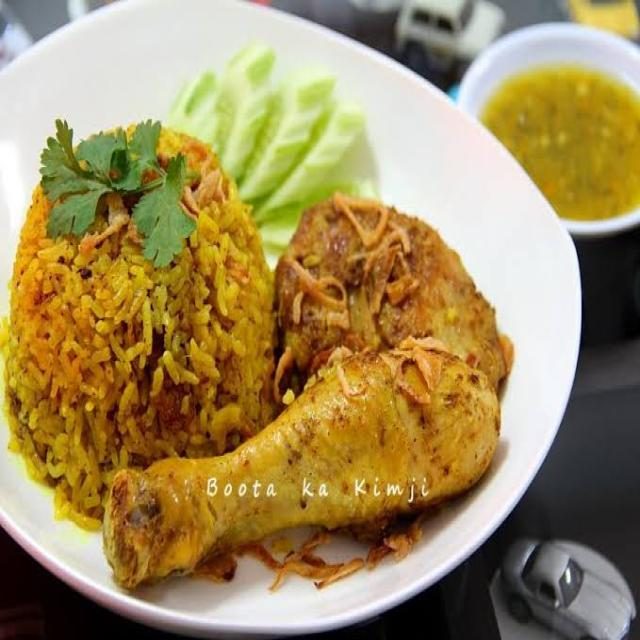carb: (14, 133, 275, 455)
chicken biryani: (2, 96, 506, 579)
meat: (206, 216, 534, 552)
vegetable: (187, 67, 353, 201), (47, 120, 192, 244)
